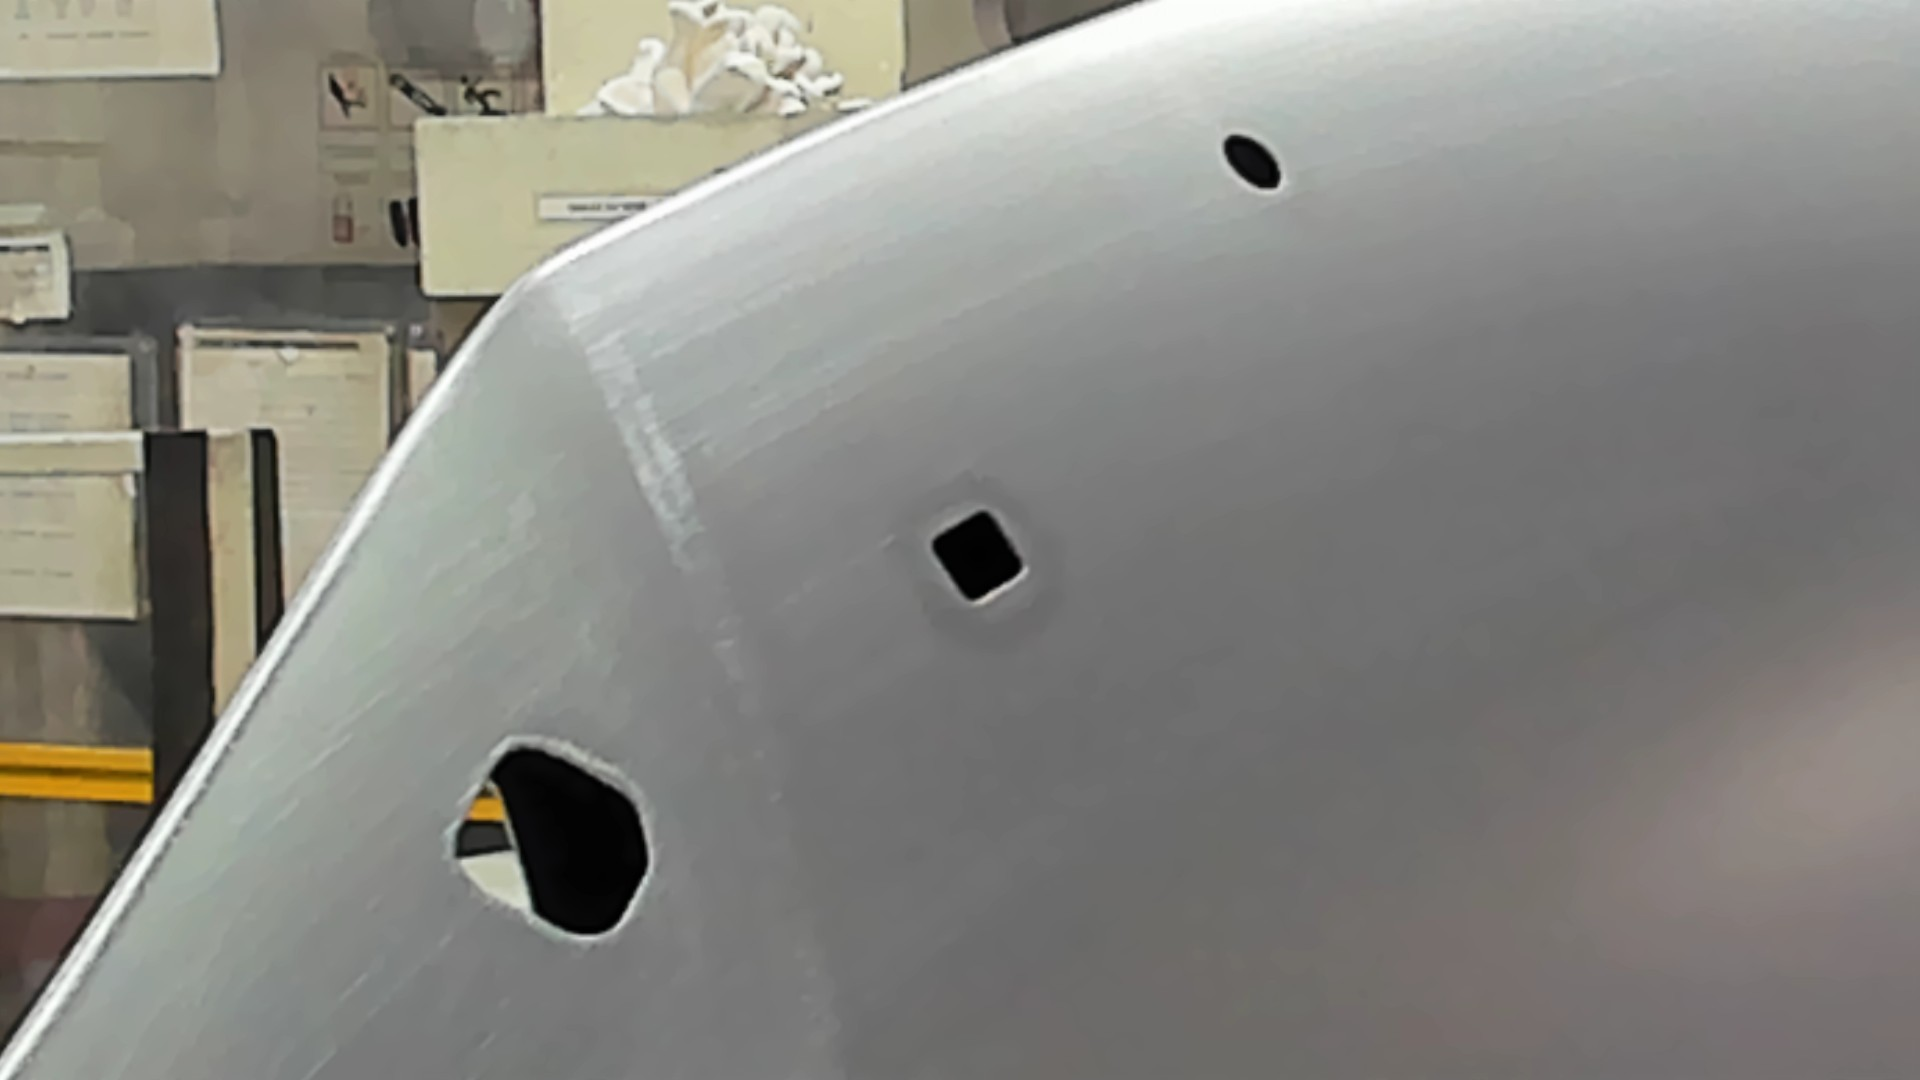chico: (1218, 129, 1286, 195)
grande: (442, 729, 665, 949)
mediano: (924, 500, 1034, 615)
